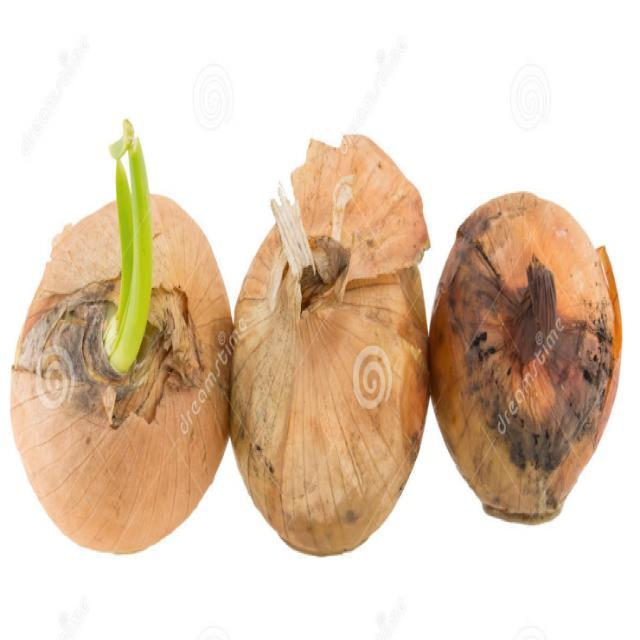rotten: (468, 320, 604, 473)
sprouting: (92, 133, 155, 384)
